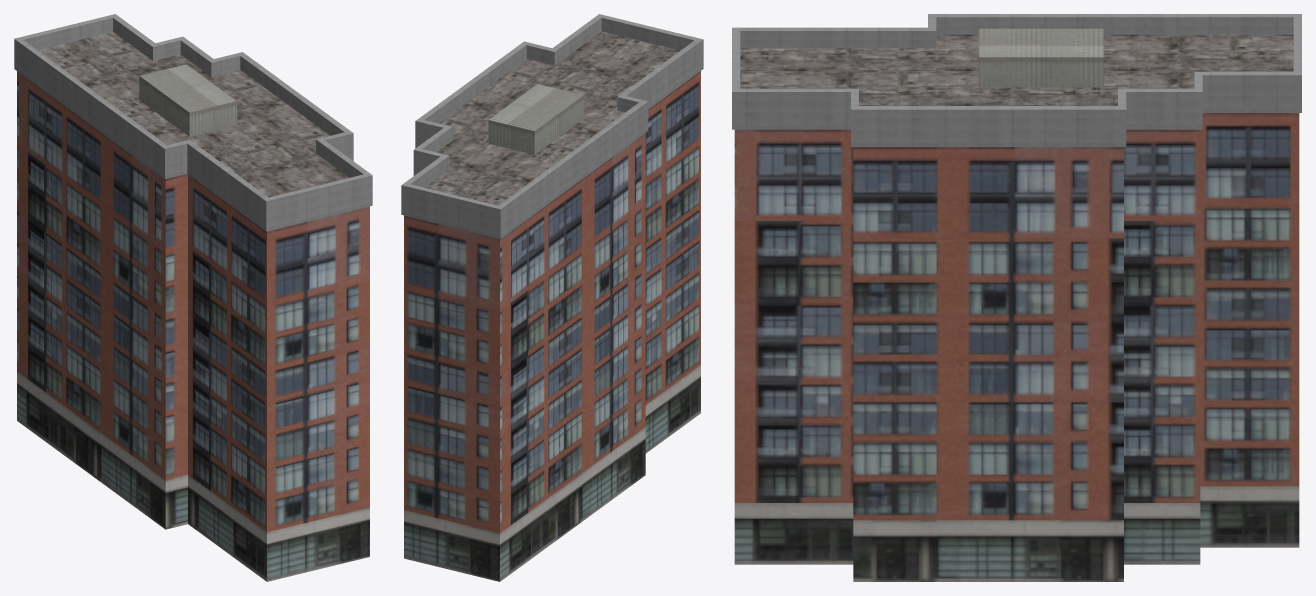
File: building_5.obj
The picture shows the model from 3 angles, left to right: view 1: azimuth 30°, elevation 25°; view 2: azimuth 150°, elevation 25°; view 3: azimuth 270°, elevation 25°; orthographic projection. The views are drawn at different scales.
Visible parts, largest first — view 1: BakedBuilding_287; view 2: BakedBuilding_287; view 3: BakedBuilding_287.
Part boxes in pixels (x1,y1,x2,y2): BakedBuilding_287: (14, 14, 372, 581); BakedBuilding_287: (401, 14, 703, 581); BakedBuilding_287: (732, 14, 1301, 581).
Size of the model in its own units: 54.58 by 130 by 138.
